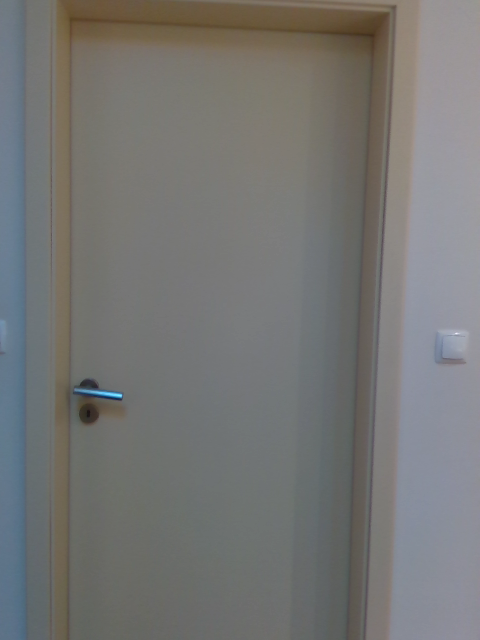closed: (21, 6, 424, 632)
